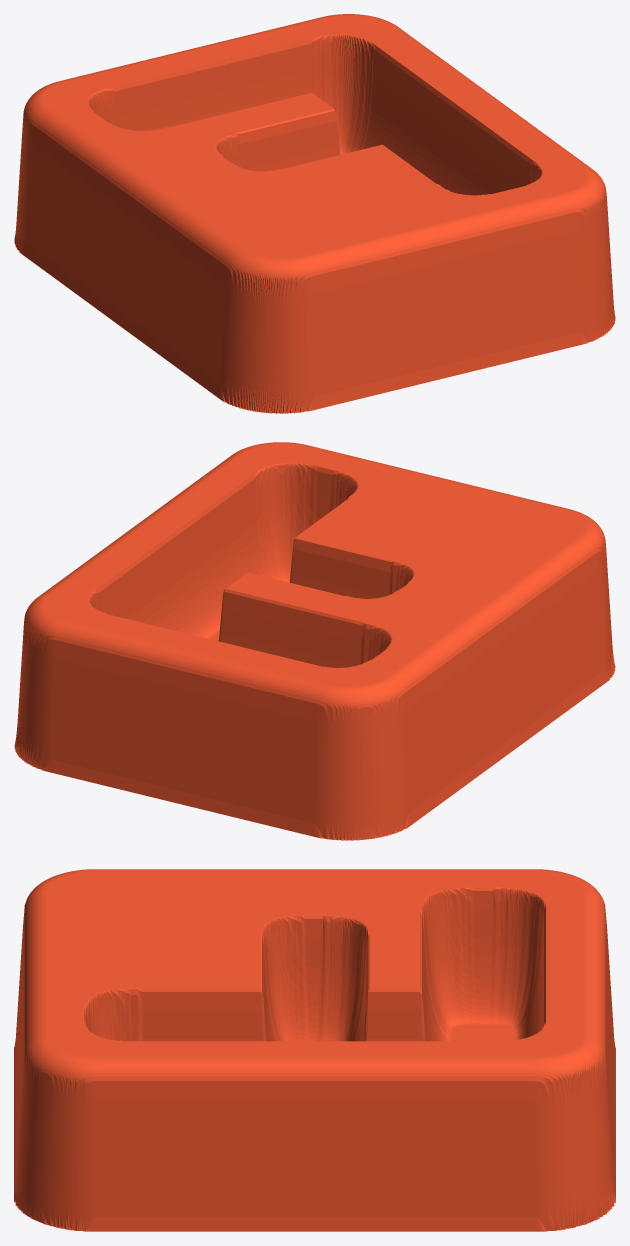
The model's file is mold.glb.
3 renders of one model, top to bottom at view 1: azimuth 30°, elevation 25°; view 2: azimuth 150°, elevation 25°; view 3: azimuth 270°, elevation 25°, orthographic. The views are drawn at different scales.
Parts seen in each view (by area): view 1: geometry_0; view 2: geometry_0; view 3: geometry_0.
Boxes of the visible parts, x1,y1,x2,y2 form: geometry_0: [14, 14, 615, 413]; geometry_0: [14, 442, 615, 840]; geometry_0: [14, 869, 615, 1231].
Bounding box in the file's own units: 0.0562 × 0.0197 × 0.067.
